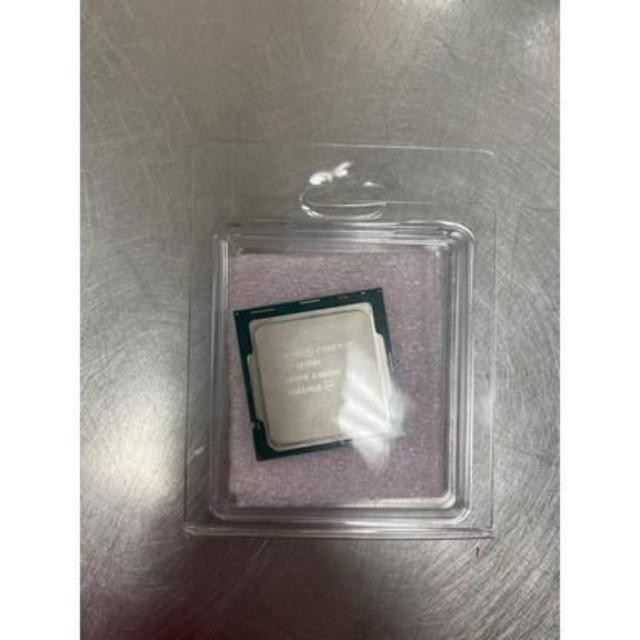CPU: (235, 300, 398, 448)
